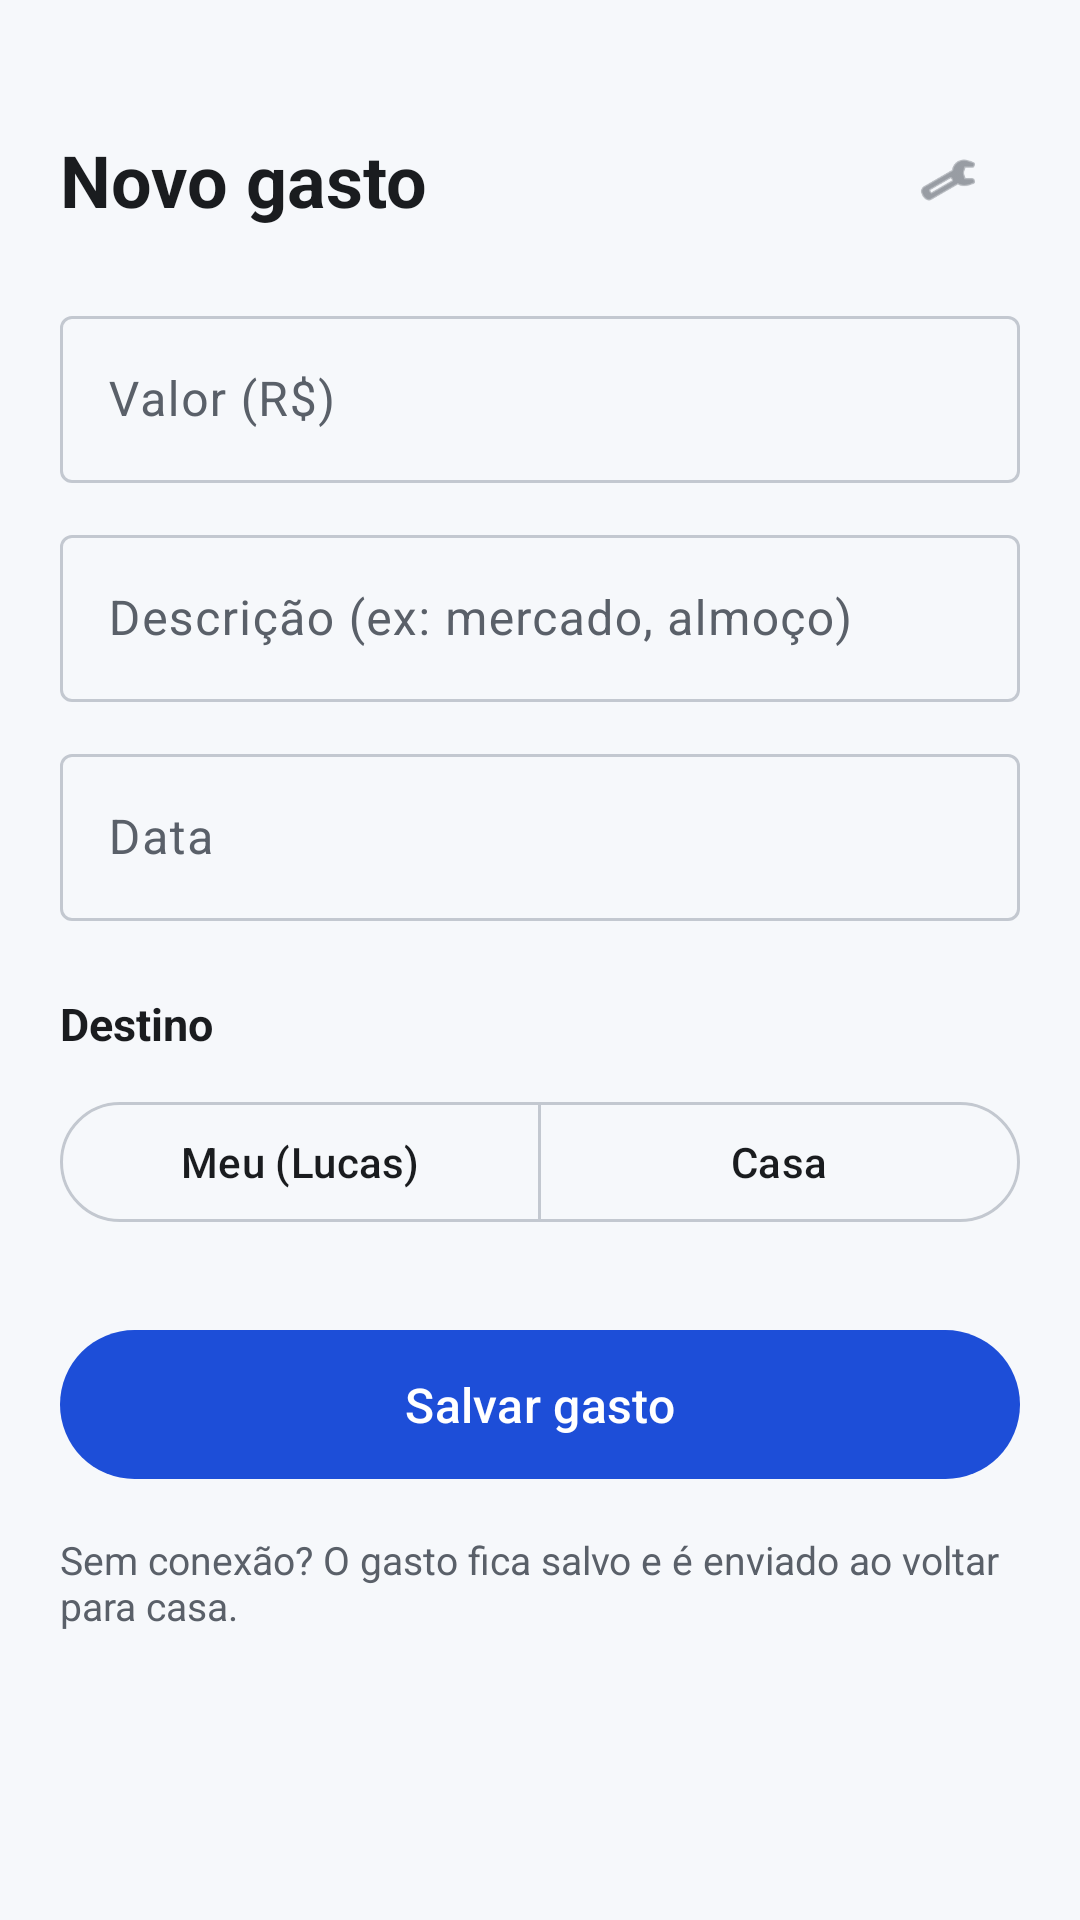

Screen size 1080 x 1920. Icon name, then its box in pixels as (left=x1, top=y1, right=x2, bottom=y2):
Configurações: (left=921, top=159, right=975, bottom=201)
